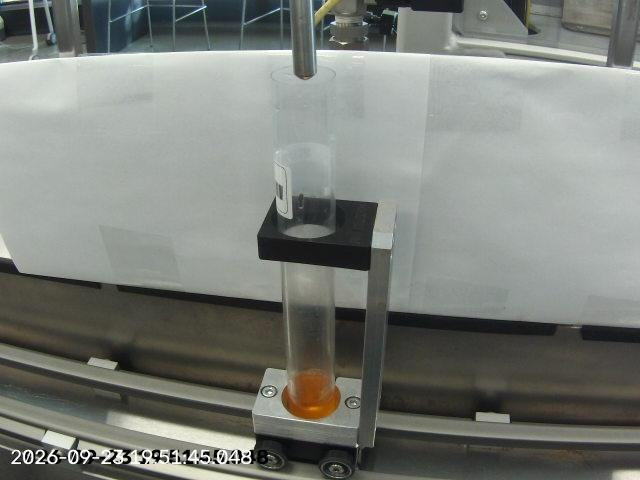vial: (259, 62, 374, 434)
